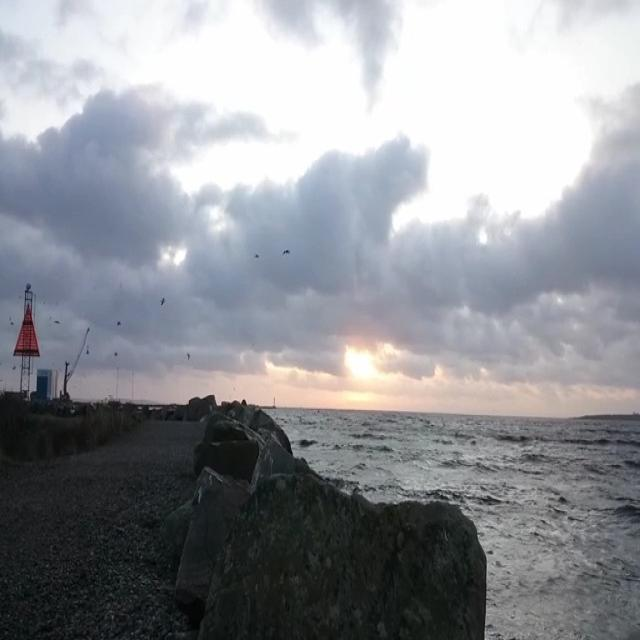bird: (115, 319, 125, 335), (157, 295, 168, 306), (280, 245, 292, 254), (184, 351, 191, 360), (253, 252, 262, 258), (53, 319, 62, 325), (111, 350, 120, 356)
